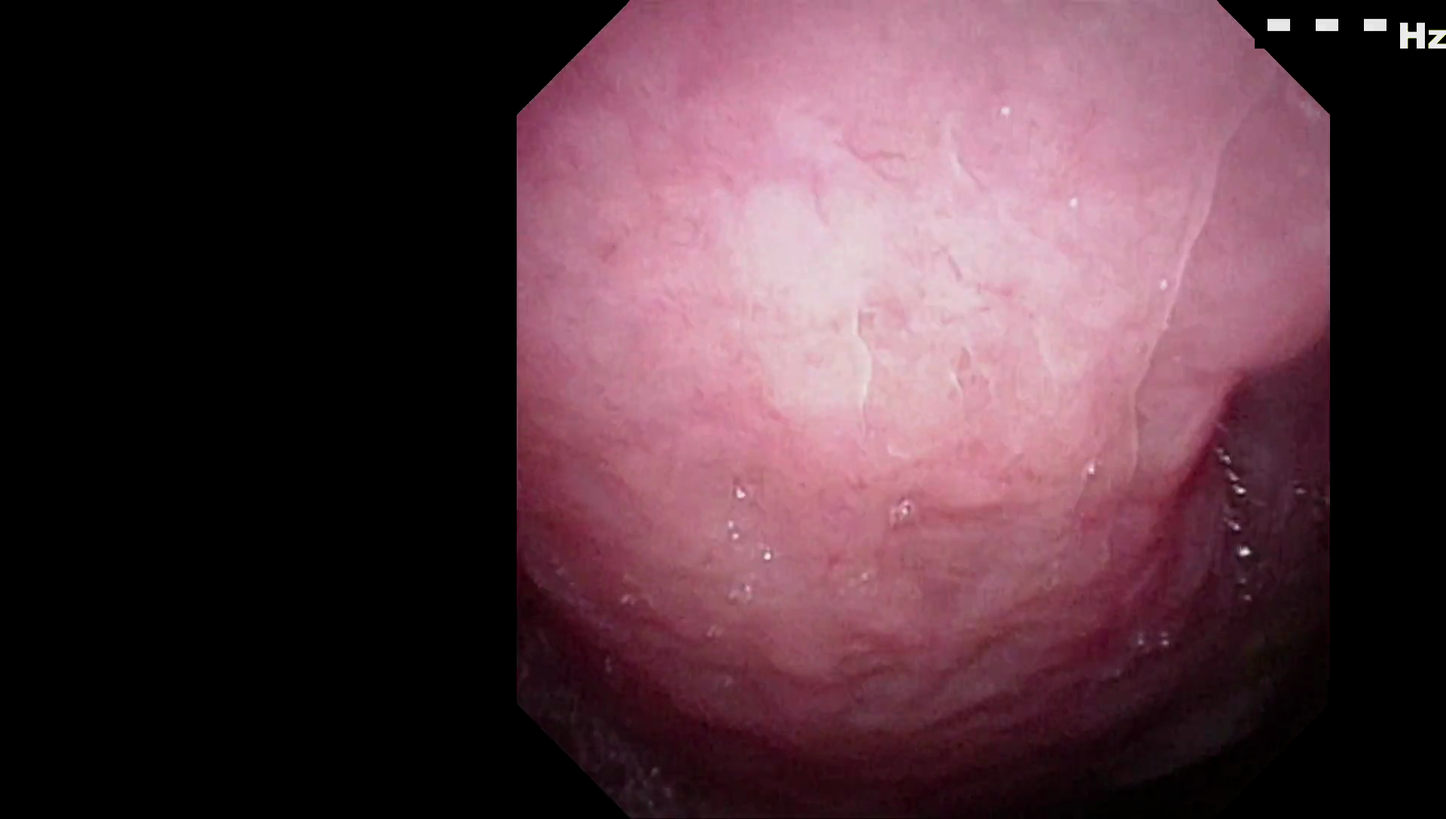close_wall: (587, 60, 1251, 590)
next: (551, 608, 915, 819), (941, 634, 1264, 819)
